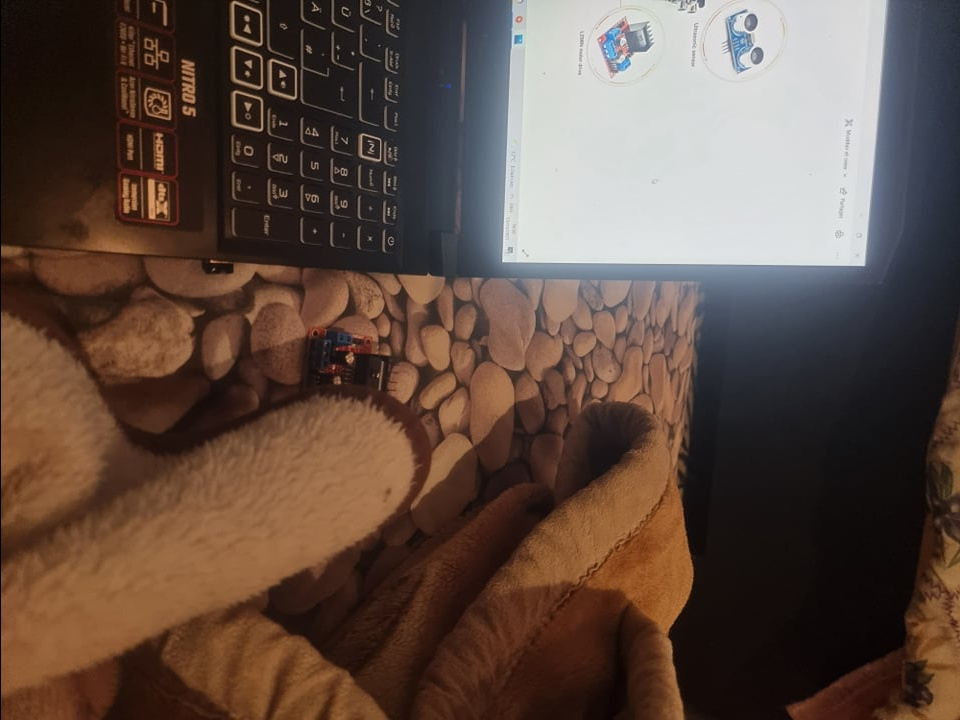MOTOR: (304, 323, 399, 403), (596, 16, 651, 80)
SENSOR: (724, 9, 765, 75)
